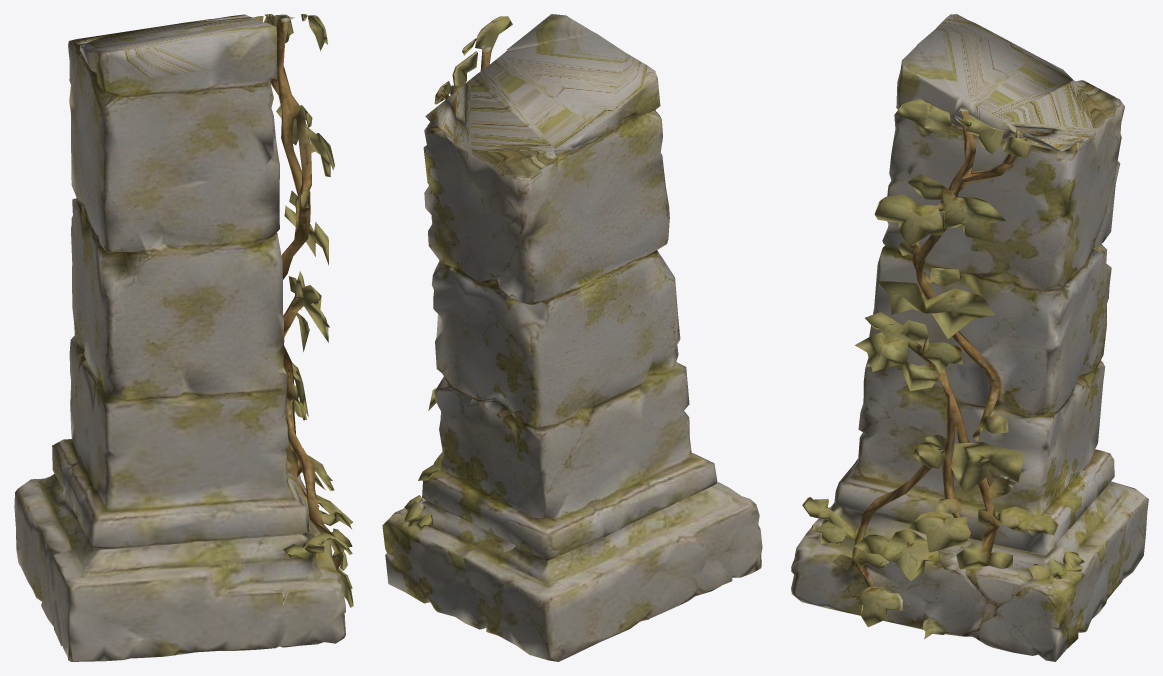
The model's file is ruin_pillar_b.glb.
3 views of the same model, side by side, from view 1: azimuth 30°, elevation 25°; view 2: azimuth 150°, elevation 25°; view 3: azimuth 270°, elevation 25° (orthographic). The views are drawn at different scales.
Parts seen in each view (by area): view 1: ruin_pillar_b__stone; view 2: ruin_pillar_b__stone; view 3: ruin_pillar_b__stone.
Part boxes in pixels (x1,y1,x2,y2): ruin_pillar_b__stone: (14,14,353,661); ruin_pillar_b__stone: (382,14,762,661); ruin_pillar_b__stone: (791,14,1148,661).
Size of the model in its own units: 0.8041 by 1.42 by 0.8367.
Materials: 1 (1 with a texture image).
